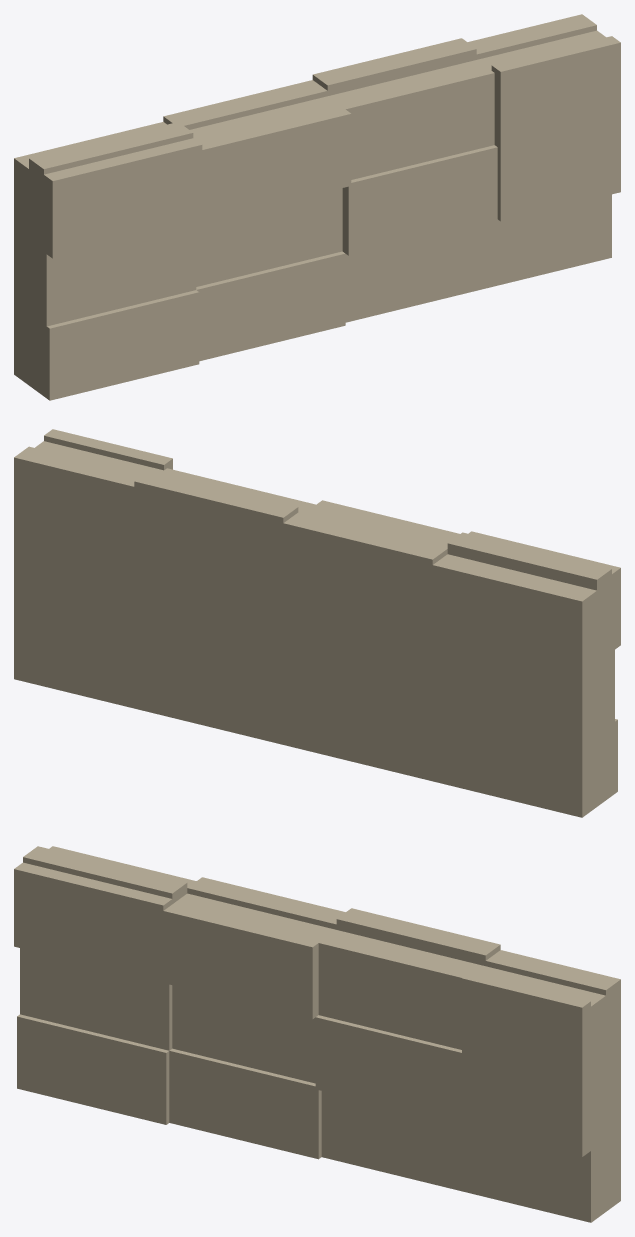
The model's file is малая стена.FBX.
3 renders of one model, top to bottom at view 1: azimuth 30°, elevation 25°; view 2: azimuth 150°, elevation 25°; view 3: azimuth 330°, elevation 25°, orthographic.
Parts seen in each view (by area): view 1: Box050; view 2: Box050; view 3: Box050.
Part boxes in pixels (left/top/right/bottom): Box050: left=14, top=14, right=620, bottom=400; Box050: left=14, top=429, right=620, bottom=817; Box050: left=14, top=846, right=620, bottom=1222.
Bounding box in the file's own units: 110 × 42 × 13.
